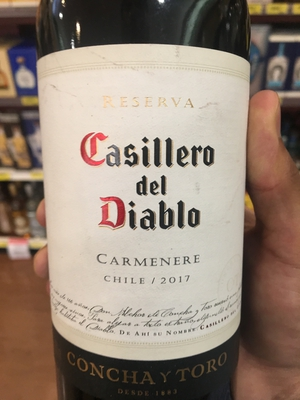casillero del diablo carmenere: (33, 12, 252, 400)
